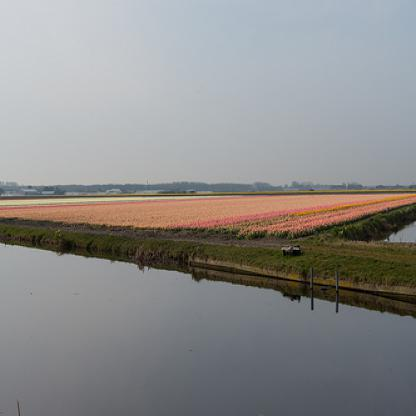TULIP: (39, 177, 342, 236)
